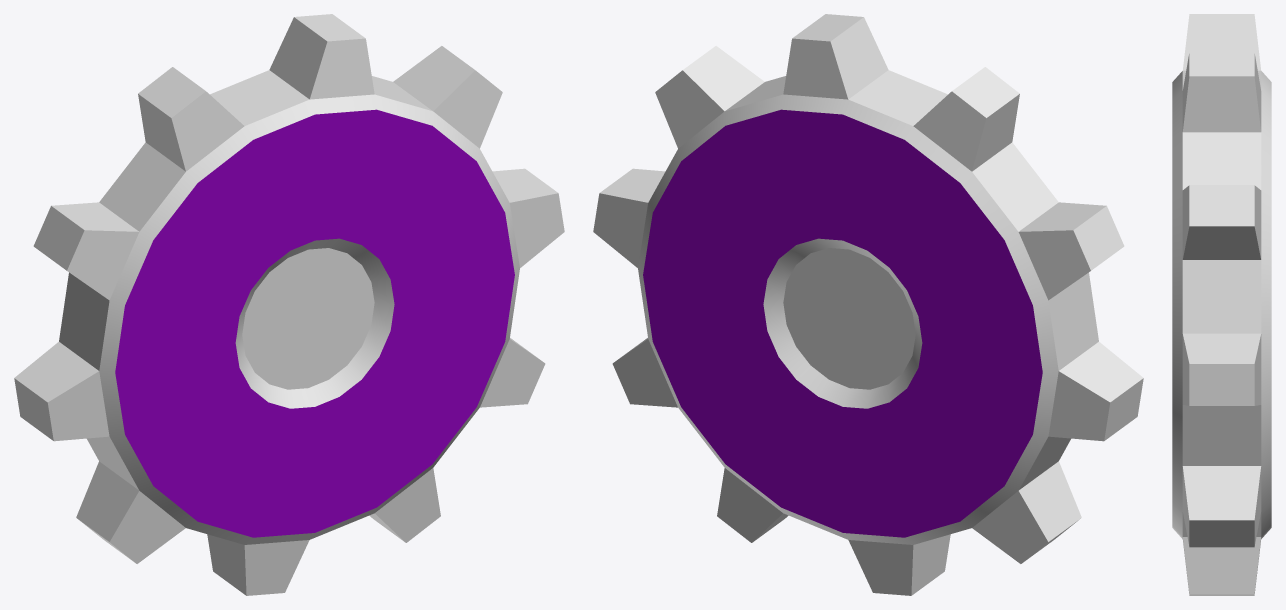
Rendered from a_actual_GEAR.fbx.
The picture shows the model from 3 angles, left to right: view 1: azimuth 30°, elevation 25°; view 2: azimuth 150°, elevation 25°; view 3: azimuth 270°, elevation 25°; orthographic projection. The views are drawn at different scales.
Visible parts, largest first — view 1: pCylinder1; view 2: pCylinder1; view 3: pCylinder1.
Boxes of the visible parts, x1=… form: pCylinder1: x1=14, y1=14, x2=564, y2=595; pCylinder1: x1=593, y1=14, x2=1143, y2=595; pCylinder1: x1=1172, y1=14, x2=1271, y2=595.
Bounding box in the file's own units: 19.18 × 19.18 × 3.29.
